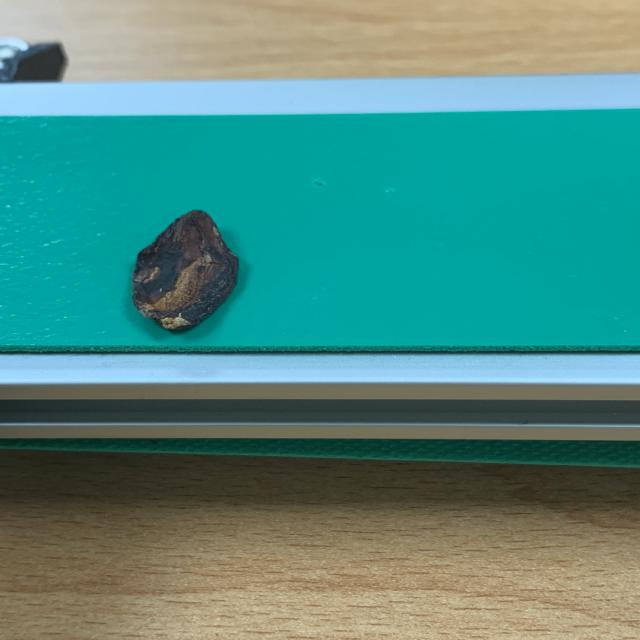Flat_cocoabeans: (58, 188, 302, 355)
